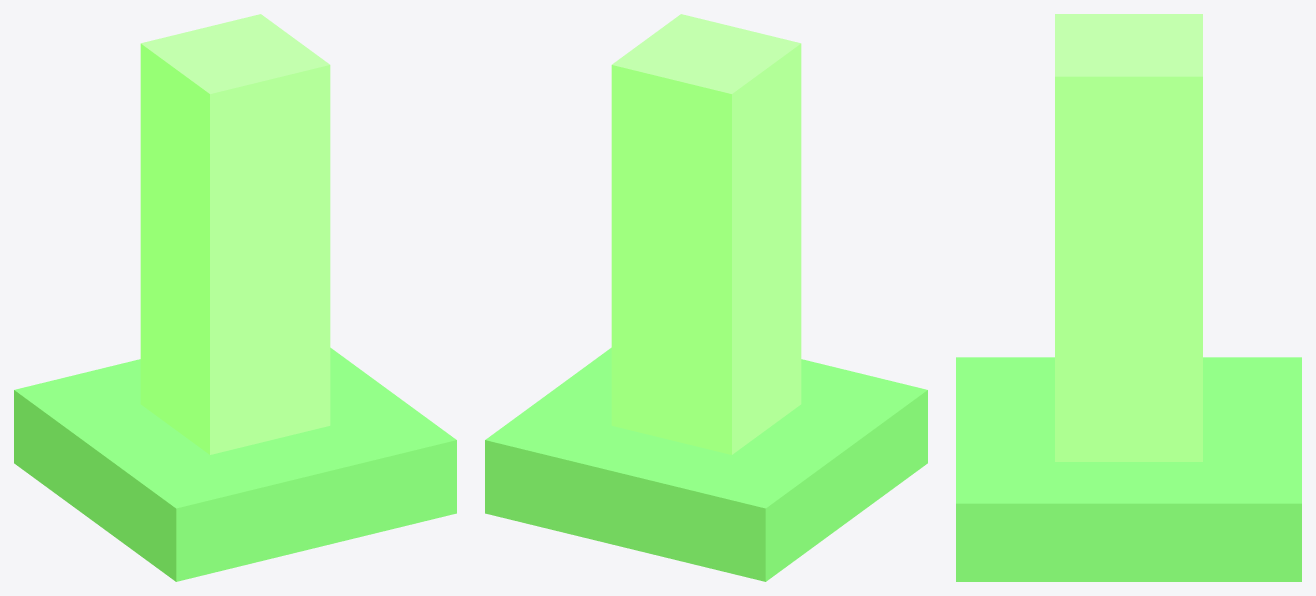
File: turret_aura_elec.glb
3 views of the same model, side by side, from view 1: azimuth 30°, elevation 25°; view 2: azimuth 150°, elevation 25°; view 3: azimuth 270°, elevation 25° (orthographic). The views are drawn at different scales.
Visible parts, largest first — view 1: Weapon, Base; view 2: Weapon, Base; view 3: Weapon, Base.
Part boxes in pixels (x1,y1,x2,y2): Weapon: (140, 14, 330, 454); Base: (14, 347, 456, 581); Weapon: (611, 14, 801, 454); Base: (485, 347, 927, 581); Weapon: (1055, 14, 1202, 461); Base: (956, 357, 1301, 581).
Size of the model in its own units: 1.4 by 2.07 by 1.4.
